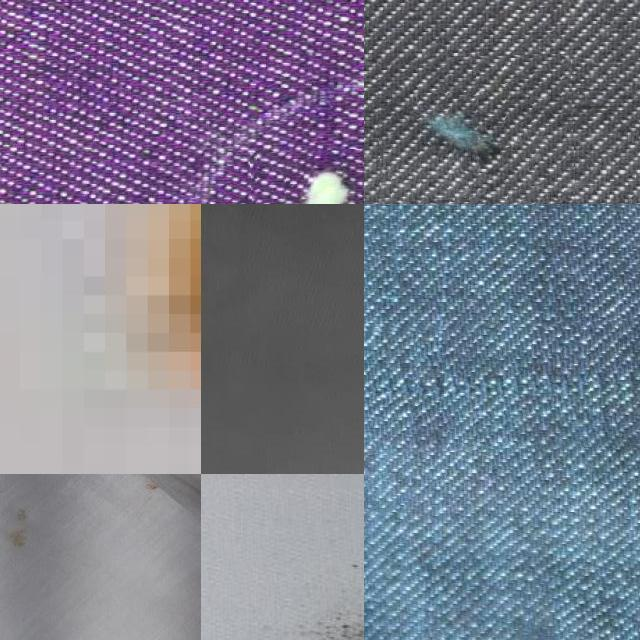Hole: (242, 487, 364, 640), (0, 479, 72, 563), (0, 583, 35, 640)
Thread_other: (364, 317, 640, 454), (378, 54, 575, 204), (251, 149, 364, 204)
